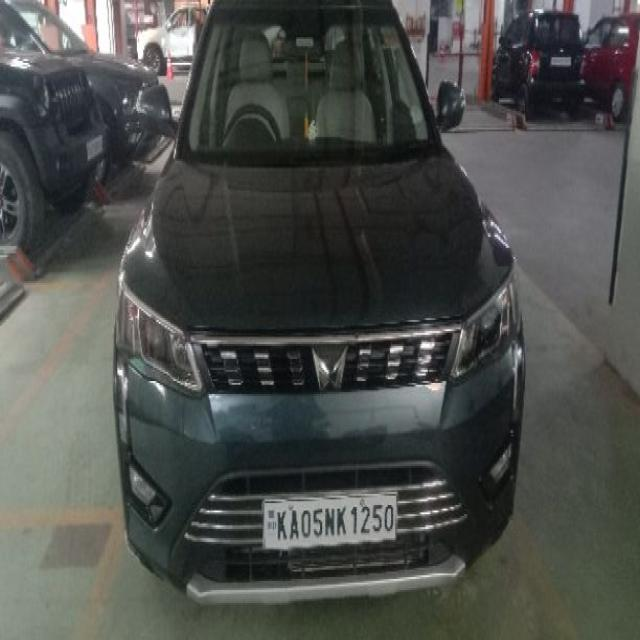license_plate: (261, 490, 398, 551)
